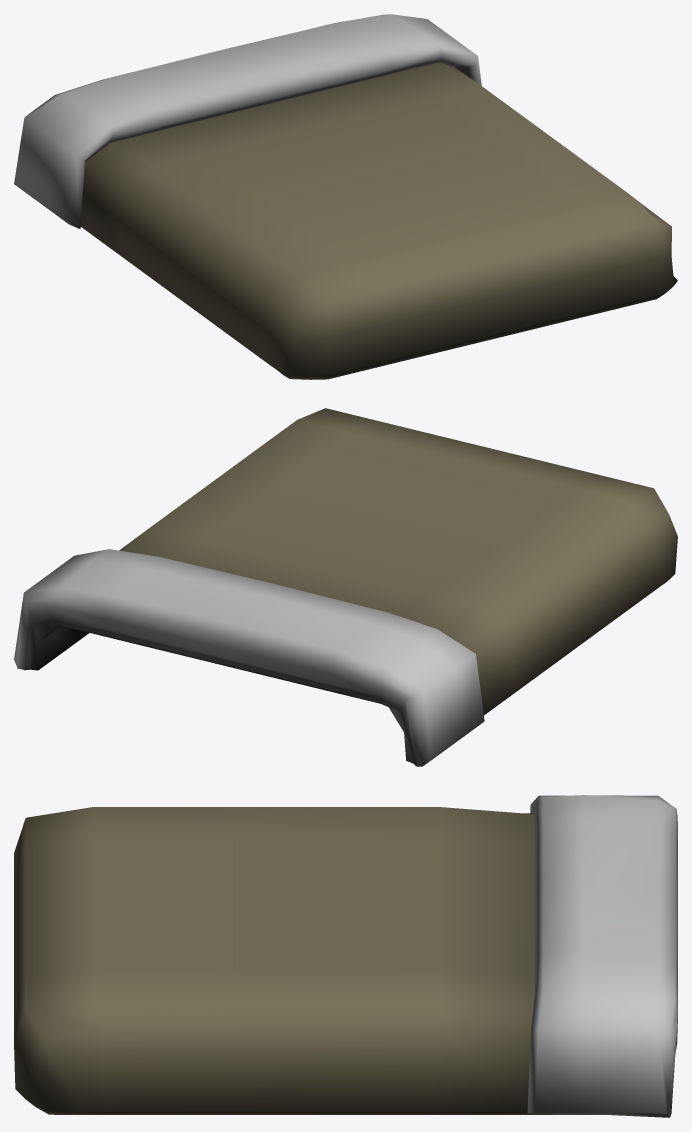
3 views of the same model, one above another, from view 1: azimuth 30°, elevation 25°; view 2: azimuth 150°, elevation 25°; view 3: azimuth 270°, elevation 25° (orthographic). The views are drawn at different scales.
Visible parts, largest first — view 1: color.003; view 2: color.003; view 3: color.003.
Part boxes in pixels (x1,y1,x2,y2): color.003: (14, 14, 677, 379); color.003: (14, 408, 677, 766); color.003: (14, 795, 677, 1117).
Bounding box in the file's own units: 0.4318 × 0.0996 × 0.5.
